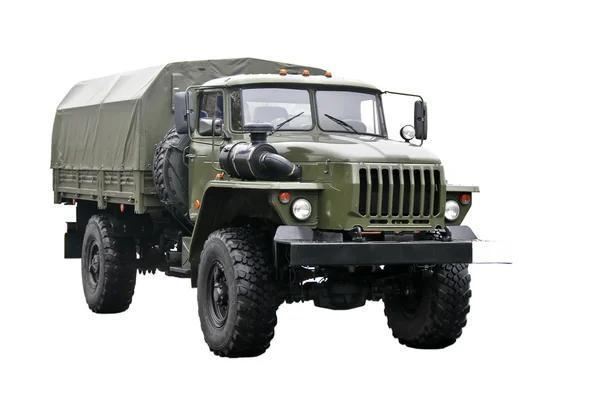truck: (43, 56, 508, 359)
